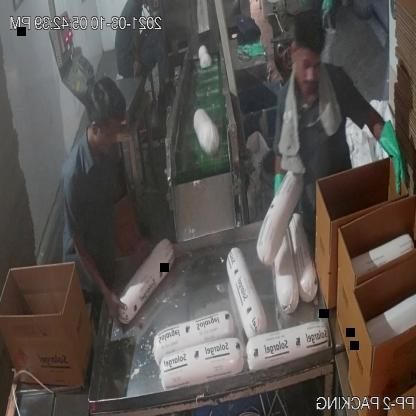glove: (372, 112, 411, 206)
no_glove: (68, 211, 127, 326), (104, 178, 154, 274)
